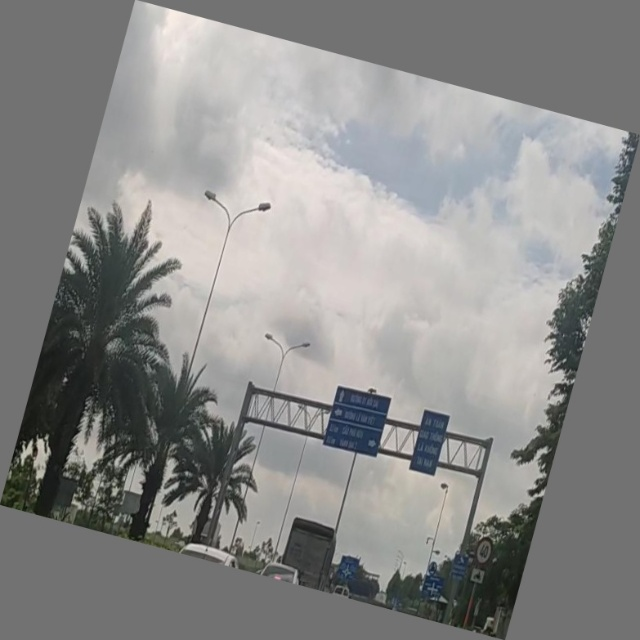P.127*40: (472, 534, 497, 568)
S.505a*Xe may: (467, 564, 486, 586)
